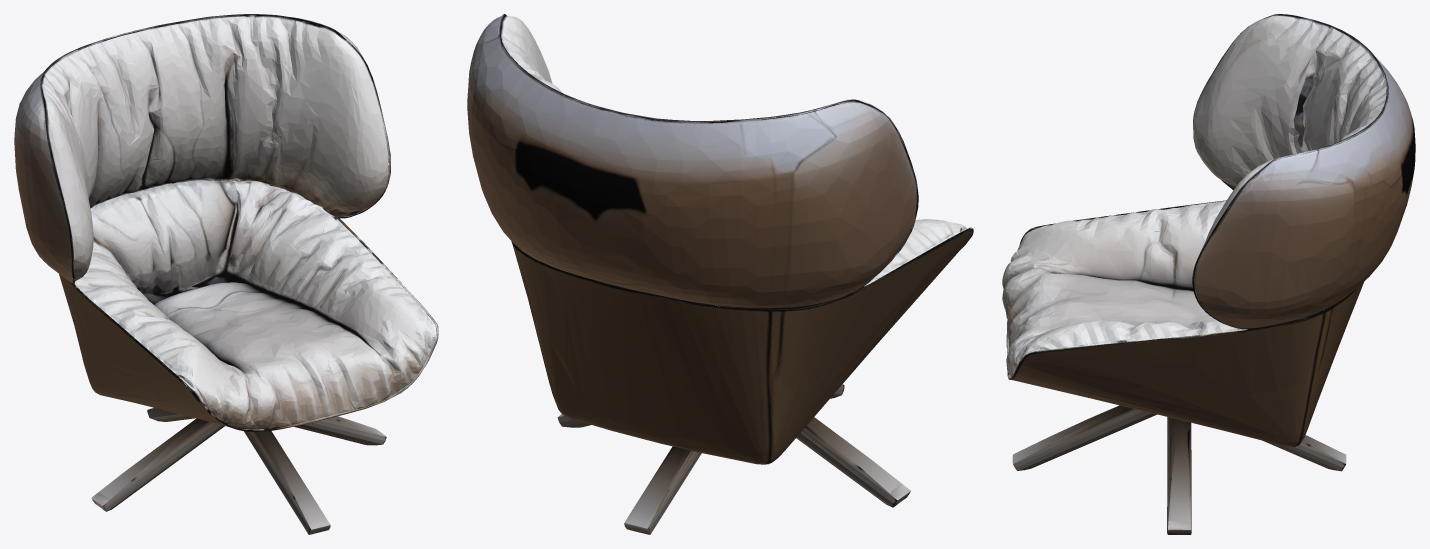
File: edited_mesh.glb
The picture shows the model from 3 angles, left to right: view 1: azimuth 30°, elevation 25°; view 2: azimuth 150°, elevation 25°; view 3: azimuth 270°, elevation 25°; orthographic projection. The views are drawn at different scales.
Visible parts, largest first — view 1: solid_001_wire; view 2: solid_001_wire; view 3: solid_001_wire.
Boxes of the visible parts, x1,y1,x2,y2 form: solid_001_wire: (14, 14, 438, 534); solid_001_wire: (467, 14, 973, 534); solid_001_wire: (1002, 14, 1415, 534).
Bounding box in the file's own units: 1.24 × 1.34 × 1.31.
1 material, 1 textured.
